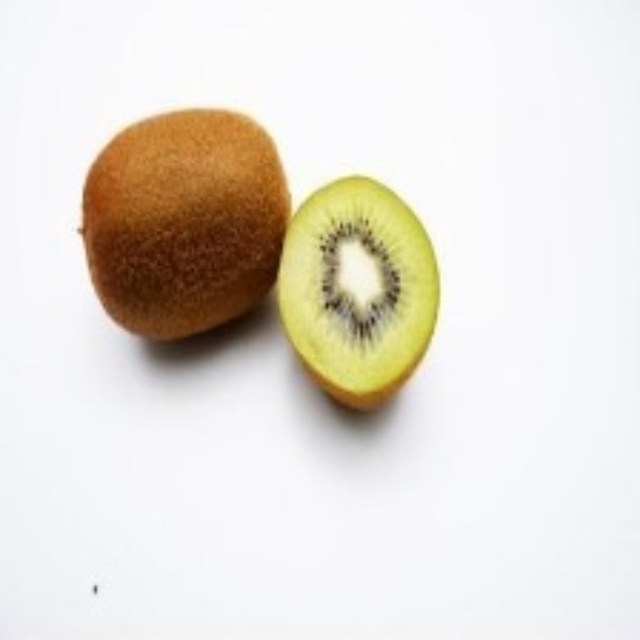kiwi: (271, 171, 482, 426), (84, 110, 289, 335)
